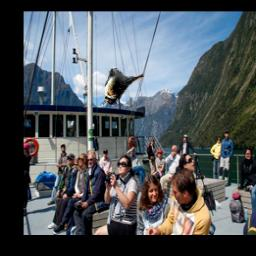Sparrow: (104, 68, 144, 105)
